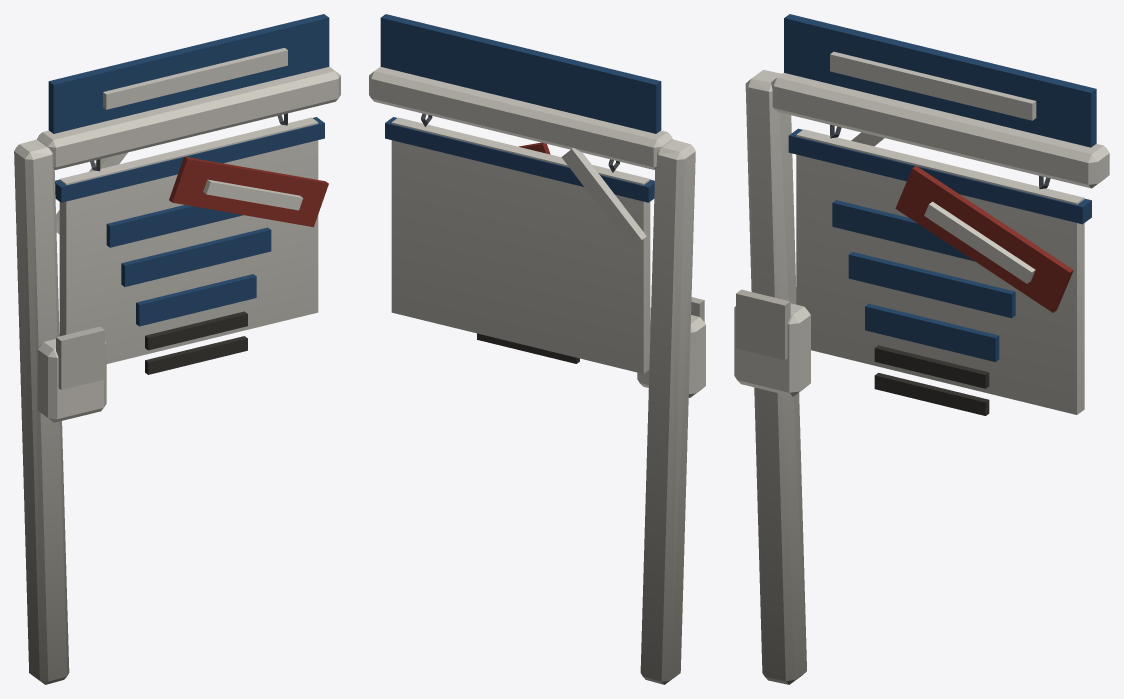
Rendered from for_sale_sign.glb.
The picture shows the model from 3 angles, left to right: view 1: azimuth 30°, elevation 25°; view 2: azimuth 150°, elevation 25°; view 3: azimuth 330°, elevation 25°; orthographic projection. The views are drawn at different scales.
Visible parts, largest first — view 1: for_sale_sign; view 2: for_sale_sign; view 3: for_sale_sign.
Boxes of the visible parts, x1=… form: for_sale_sign: x1=14, y1=14, x2=340, y2=684; for_sale_sign: x1=369, y1=14, x2=705, y2=684; for_sale_sign: x1=734, y1=14, x2=1109, y2=684.
Size of the model in its own units: 1.08 by 1.94 by 0.2251.
